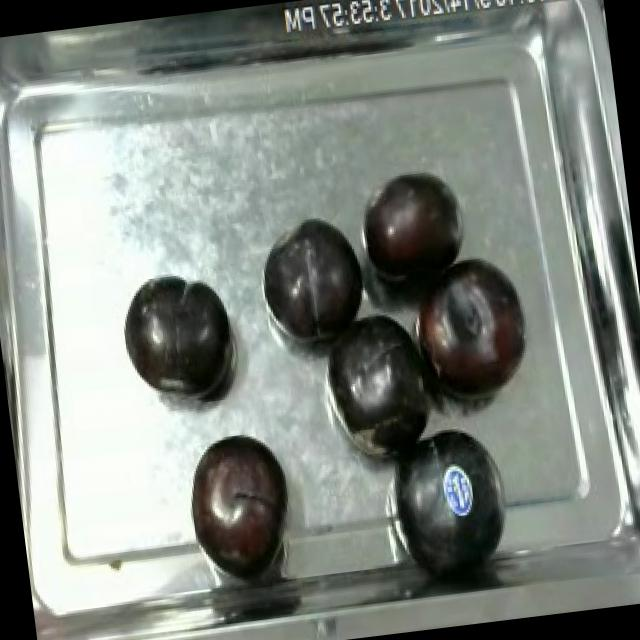Fruit: (373, 407, 528, 588), (403, 245, 541, 412), (313, 299, 446, 471), (179, 422, 300, 580), (113, 266, 244, 408), (251, 208, 375, 354), (352, 163, 470, 287)
